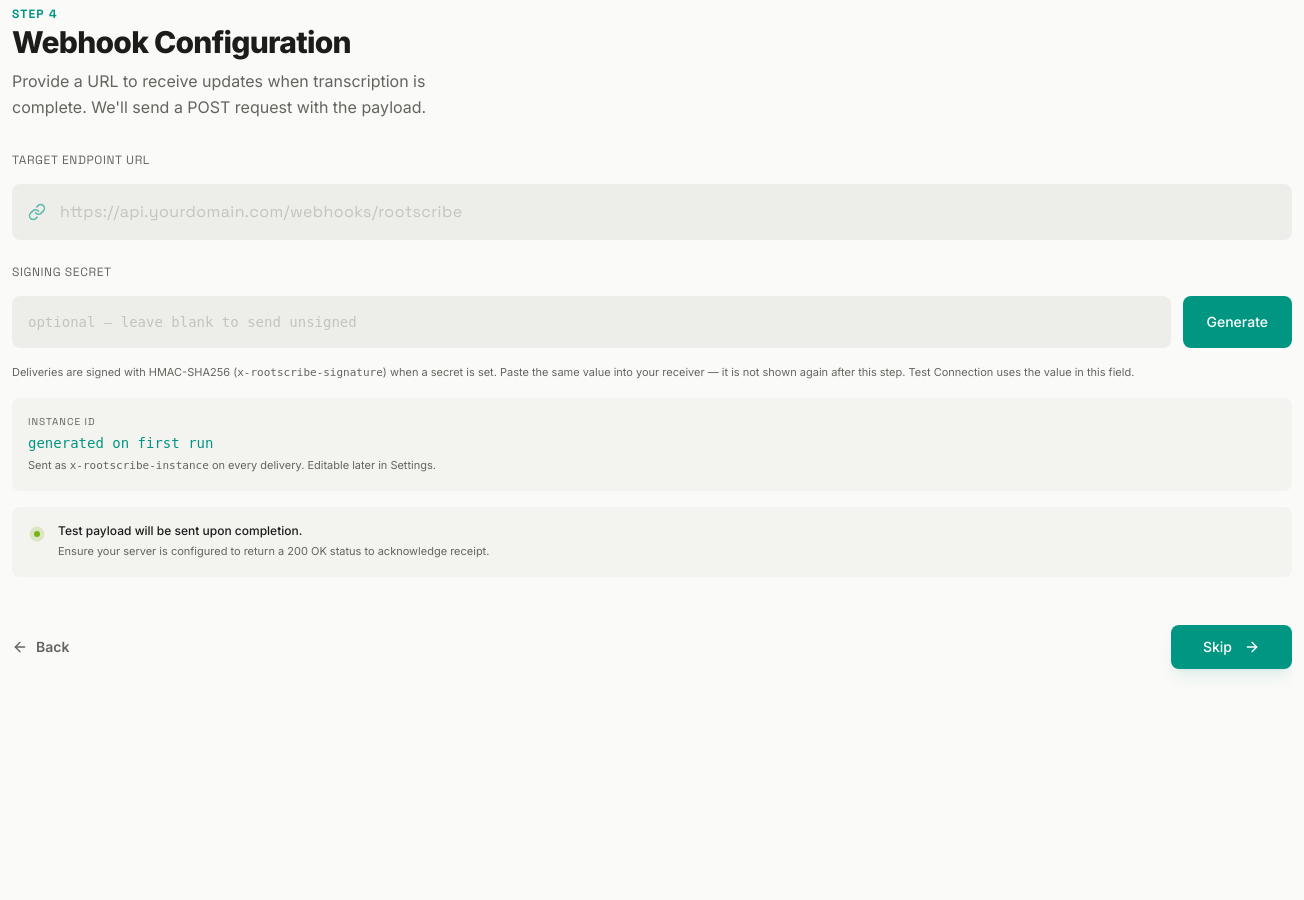
Test: WebhookStep — test connection › renders 'Connection Failed' with the HTTP status when the test returns ok=false with a status code
The image size is (1304, 900).
Type "https://hook.example" into the field with placeholder "https://api.yourdomain.com/webhooks/rootscribe" at (652, 212), box [12,184,1292,240]
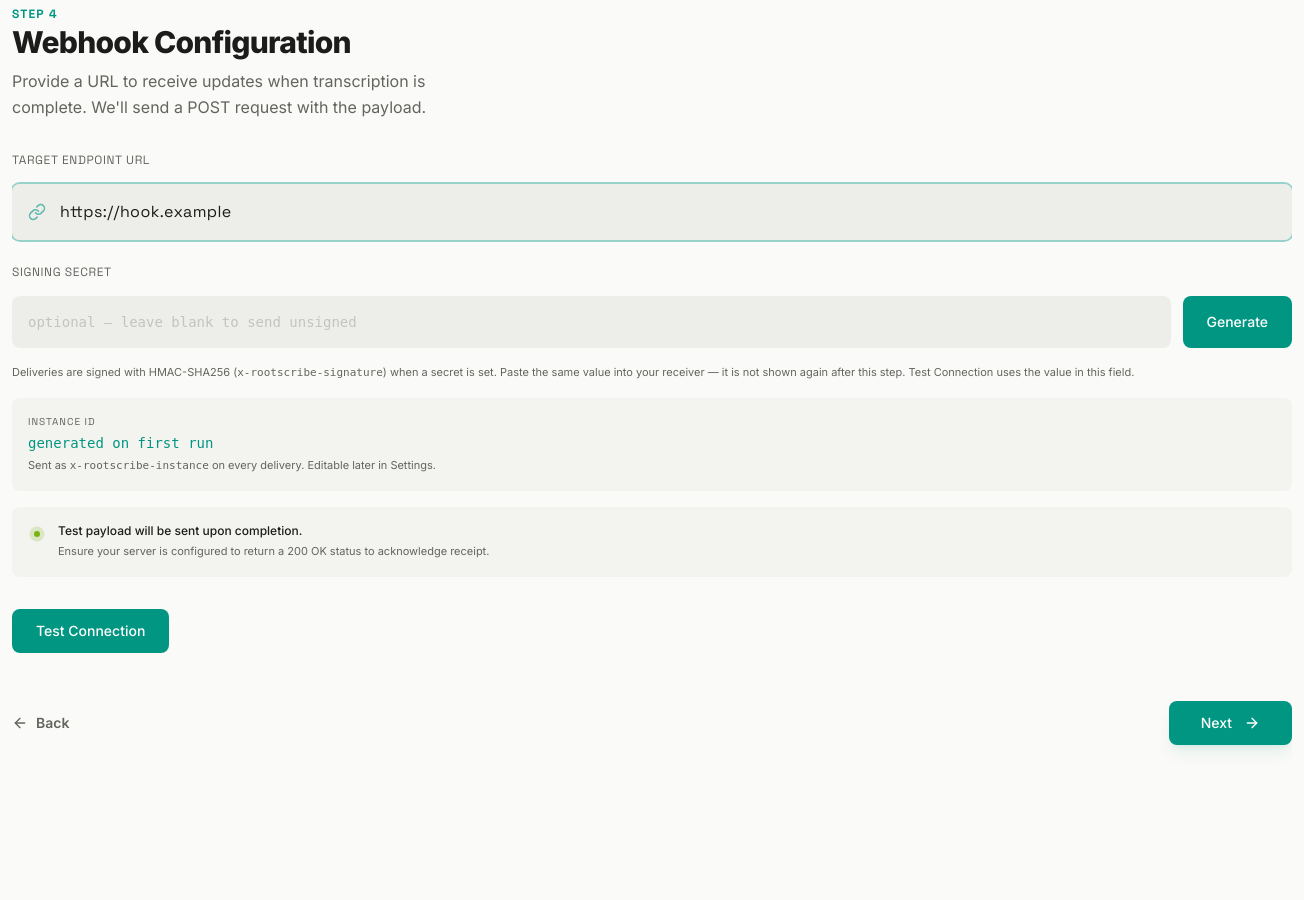
Check: the button "Test Connection" is enabled
Click the button "Test Connection" at (91, 631), box [12,609,169,653]
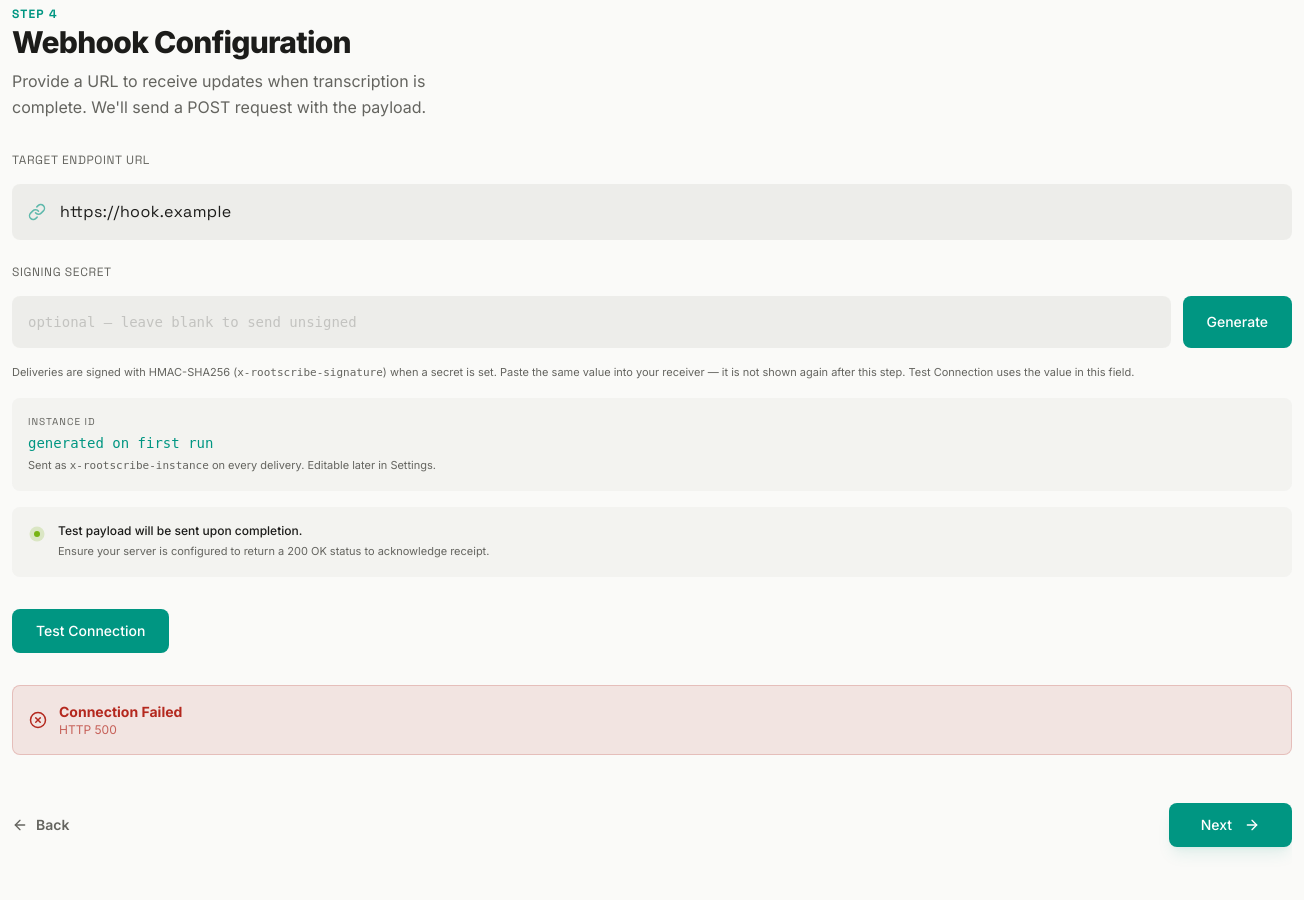
Check: the text "Connection Failed" is shown, box [59,702,182,722]
Check: the text "HTTP 500" is shown, box [59,722,117,737]
